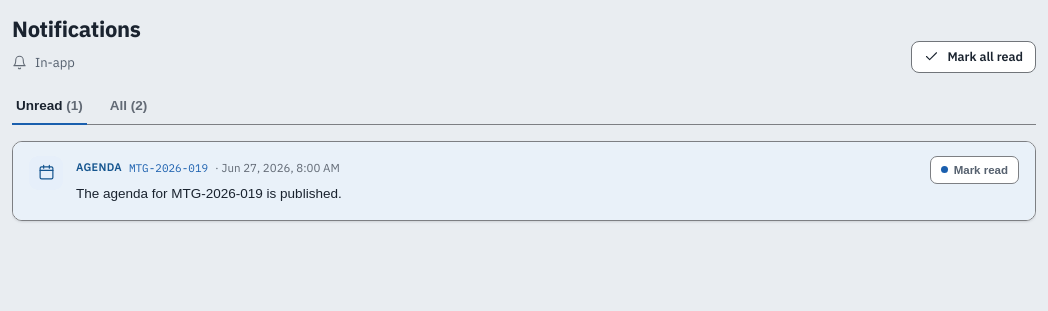
Test: NotificationsPage (#79 — ACMP.dc.html L706–739) › the Unread tab filters the read item back out
Click the tab "All (2)": (129, 106) left=106, top=88, right=151, bottom=124
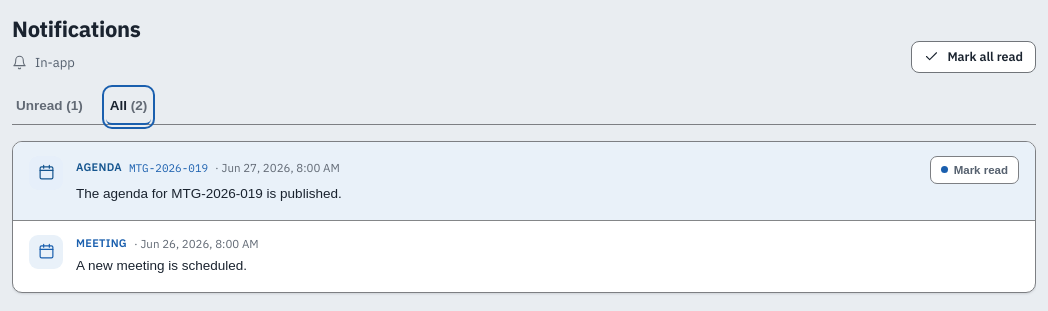
Result: the button "A new meeting is scheduled." is shown at left=76, top=254, right=1019, bottom=278
Click the tab "Unread (1)": (49, 106) left=12, top=88, right=87, bottom=124
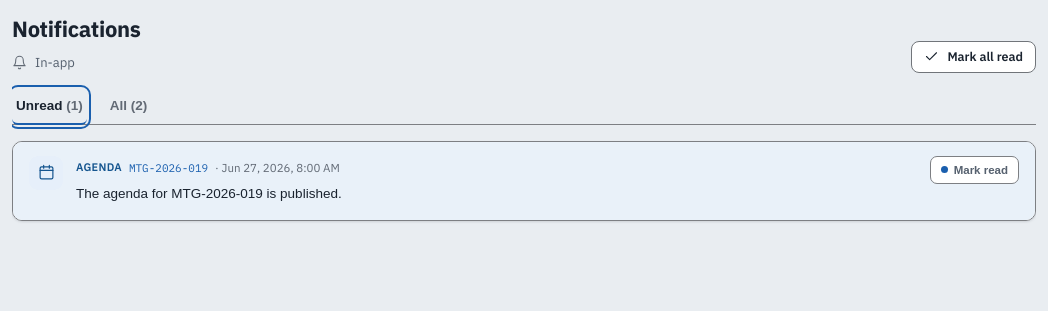
Result: the button "A new meeting is scheduled." is gone
